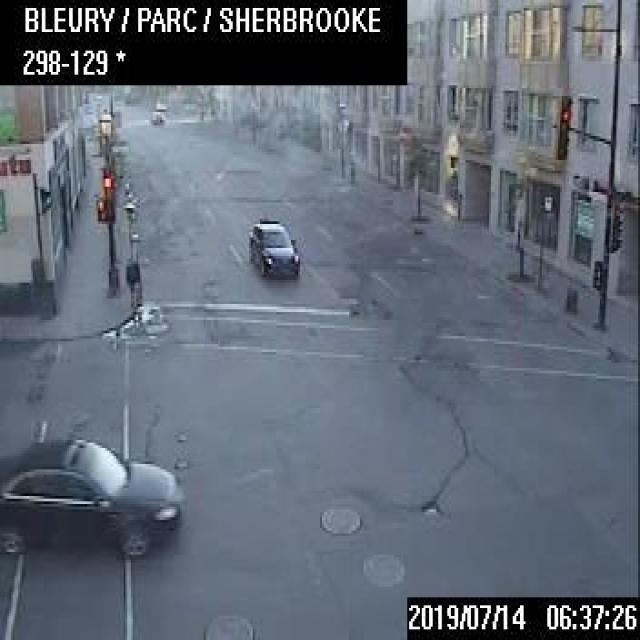pedestrian: (124, 254, 139, 308)
vehicle: (0, 435, 182, 557), (246, 217, 298, 277), (150, 108, 163, 123)
